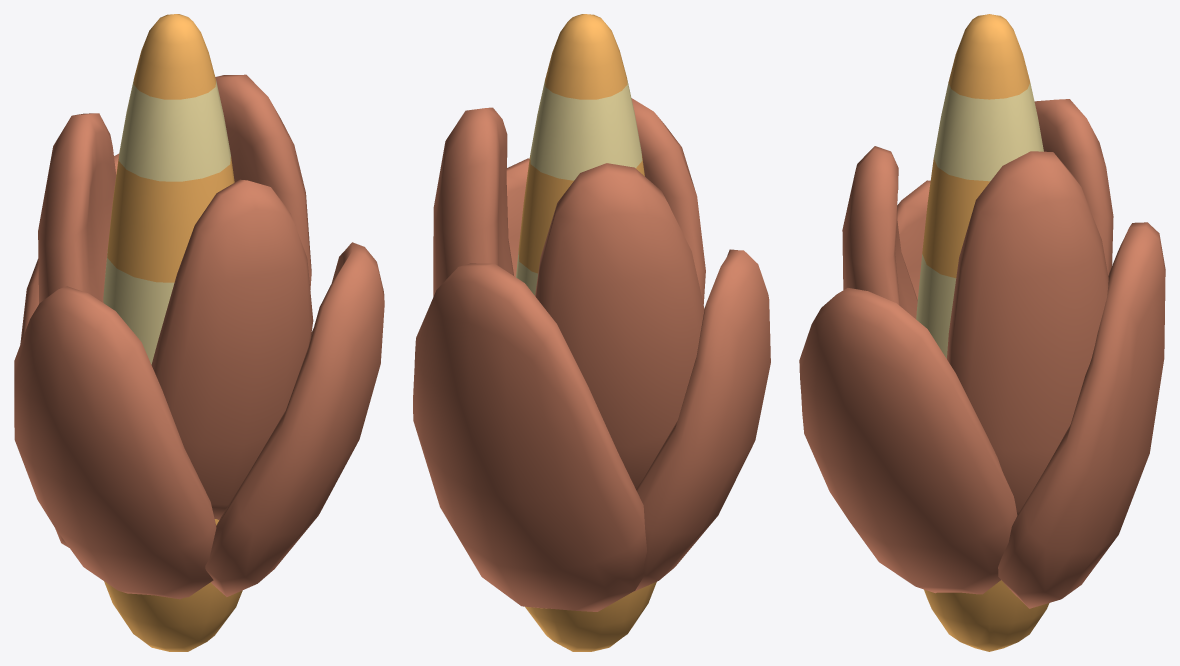
File: Spiker_02.fbx
3 views of the same model, side by side, from view 1: azimuth 30°, elevation 25°; view 2: azimuth 150°, elevation 25°; view 3: azimuth 270°, elevation 25° (orthographic).
Visible parts, largest first — view 1: Spiker_02_LOD0; view 2: Spiker_02_LOD0; view 3: Spiker_02_LOD0.
Part boxes in pixels (left/top/right/bottom): Spiker_02_LOD0: left=14, top=14, right=384, bottom=651; Spiker_02_LOD0: left=413, top=14, right=770, bottom=651; Spiker_02_LOD0: left=799, top=14, right=1165, bottom=651.
Size of what is drawn, in the model's own units: 313 by 594 by 313.
